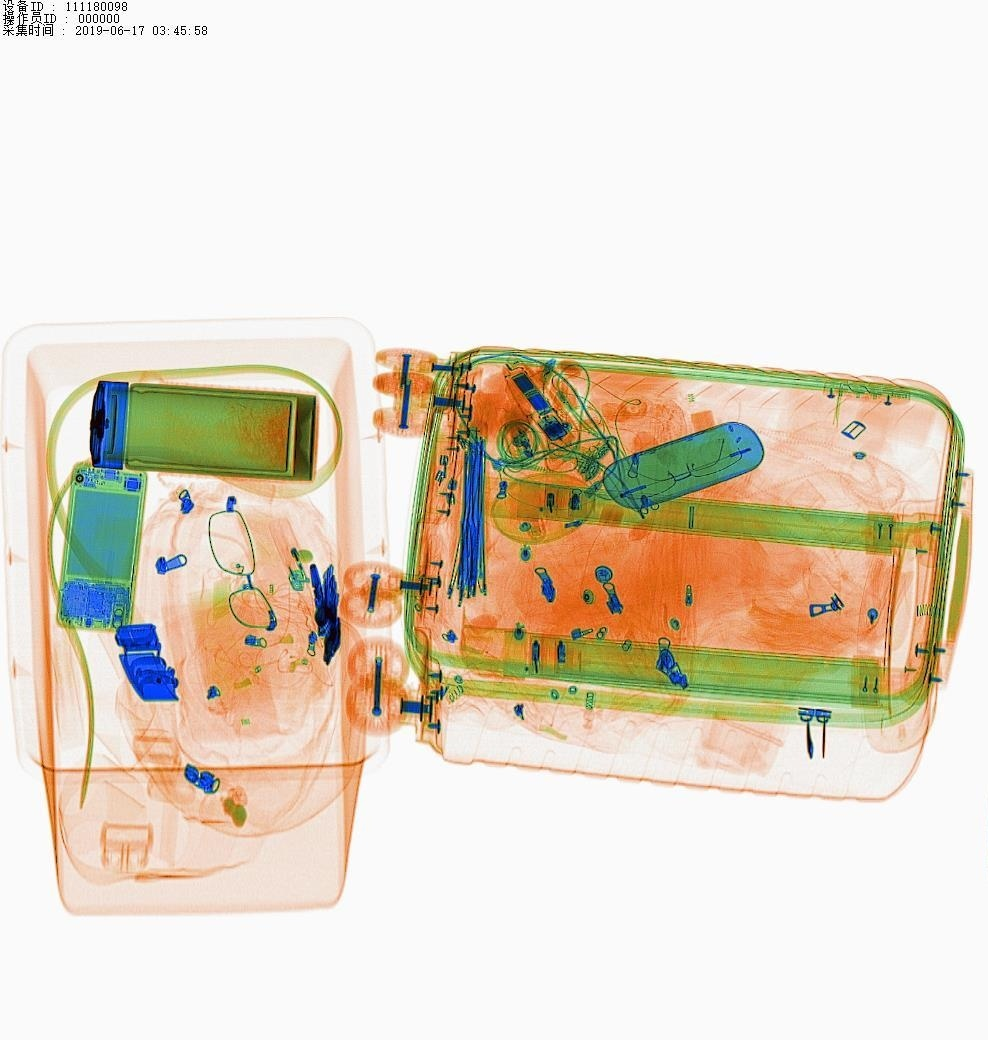NonmetallicFire: (257, 512, 324, 611)
